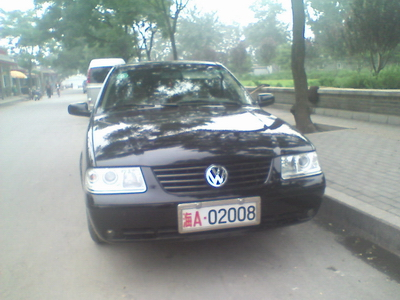plate_number: (181, 201, 259, 230)
